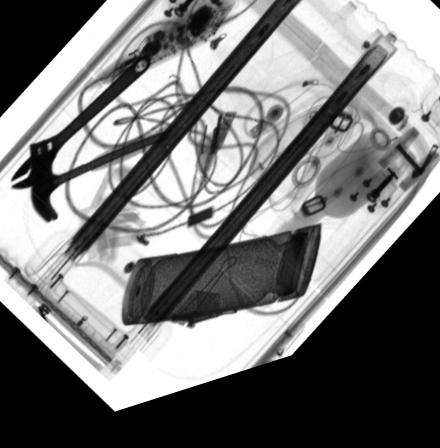Hammer: (29, 135, 172, 225)
Wrench: (7, 62, 153, 192)
